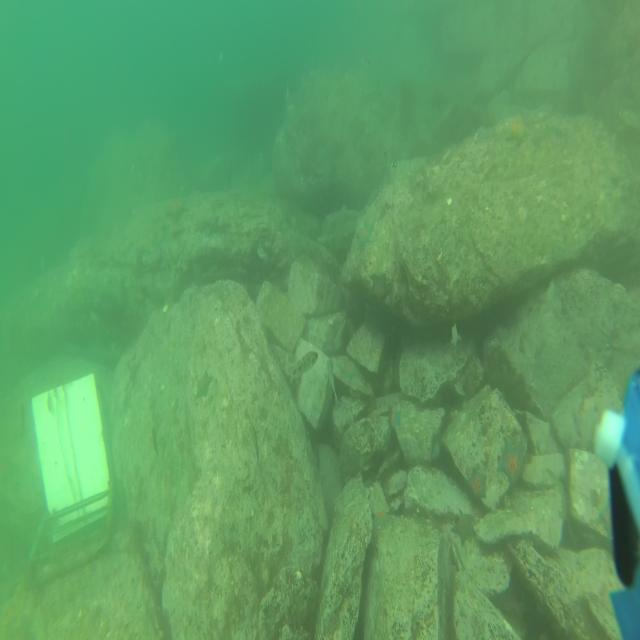starfish: (496, 435, 528, 488), (451, 507, 478, 549), (465, 465, 490, 502), (368, 271, 391, 306), (505, 118, 532, 146), (166, 193, 190, 223), (195, 367, 214, 402), (354, 219, 374, 249), (371, 508, 395, 531), (338, 357, 360, 382), (388, 407, 403, 433), (194, 215, 208, 236), (208, 213, 222, 233)
